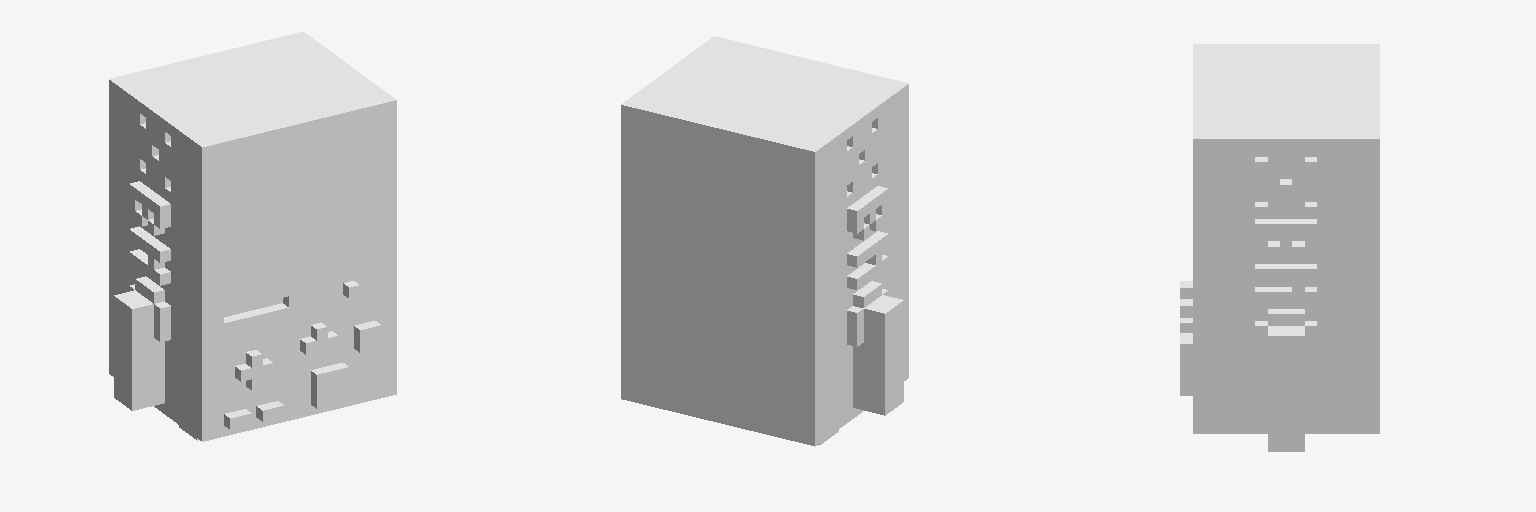
The model's file is chr_bmo.obj.
3 views of the same model, side by side, from view 1: azimuth 30°, elevation 25°; view 2: azimuth 150°, elevation 25°; view 3: azimuth 270°, elevation 25° (orthographic).
Visible parts, largest first — view 1: object 1; view 2: object 1; view 3: object 1.
Boxes of the visible parts, x1,y1,x2,y2 form: object 1: [109, 32, 396, 441]; object 1: [621, 36, 908, 446]; object 1: [1180, 44, 1379, 451].
Bounding box in the file's own units: 2.4 × 2.9 × 1.6.